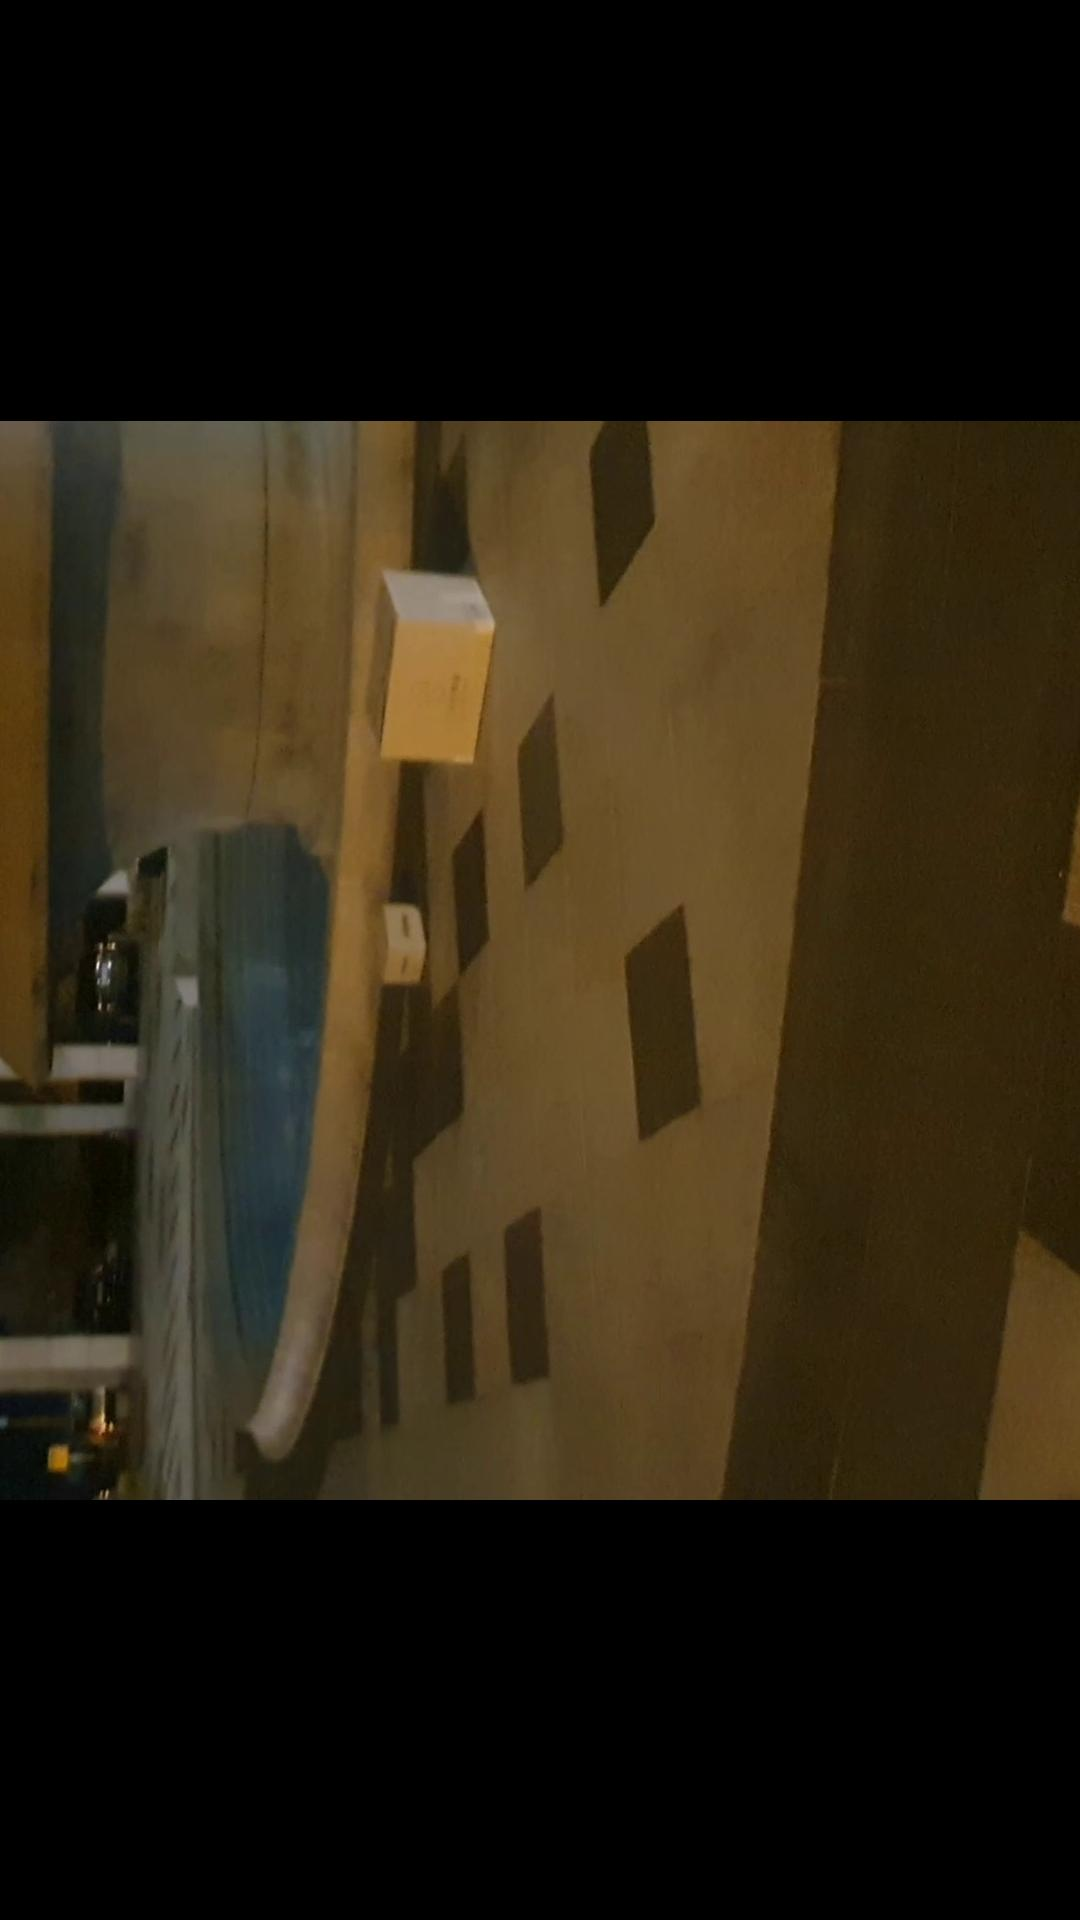Box: (355, 553, 500, 782), (363, 899, 430, 989)
